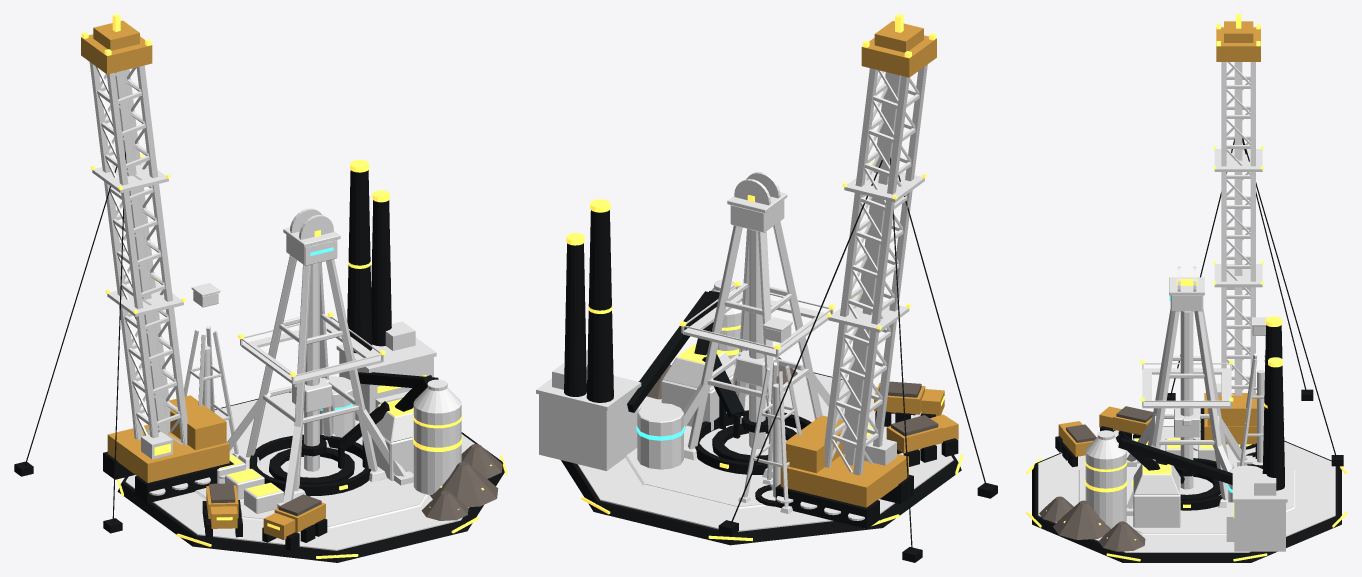
The model's file is sb_mine_t3.glb.
3 renders of one model, left to right at view 1: azimuth 30°, elevation 25°; view 2: azimuth 150°, elevation 25°; view 3: azimuth 270°, elevation 25°, orthographic. The views are drawn at different scales.
Visible parts, largest first — view 1: SM_MINE3_MAST, SM_MINE_DERRICK, SM_MINE3_STACKS, SM_MINE3_PLINTH_TOP, SM_MINE_DECK, SM_MINE3_CHASSIS, SM_MINE3_PLINTH, SM_MINE2_SILO, SM_MINE3_HEAPS, SM_MINE3_DRILLPIPE, SM_MINE3_MAST_HEAD, SM_MINE2_PLATFORM (+26 smaller); view 2: SM_MINE3_MAST, SM_MINE3_STACKS, SM_MINE3_PLINTH_TOP, SM_MINE_DERRICK, SM_MINE3_PLANT, SM_MINE3_CHASSIS, SM_MINE_DECK, SM_MINE3_PLINTH, SM_MINE3_MAST_HEAD, SM_MINE3_DRILLPIPE, SM_MINE3_GUYS, SM_MINE_TANK (+25 smaller); view 3: SM_MINE3_PLINTH_TOP, SM_MINE3_MAST, SM_MINE_DERRICK, SM_MINE3_PLINTH, SM_MINE_DECK, SM_MINE2_SILO, SM_MINE3_STACKS, SM_MINE3_PLANT, SM_MINE3_HEAPS, SM_MINE3_DRILLPIPE, SM_MINE2_PLATFORM, SM_MINE_SHAFT (+21 smaller).
Boxes of the visible parts, left/top/right/bottom form: SM_MINE3_MAST: left=89, top=62, right=187, bottom=444; SM_MINE_DERRICK: left=246, top=255, right=377, bottom=490; SM_MINE3_STACKS: left=347, top=170, right=391, bottom=353; SM_MINE3_PLINTH_TOP: left=125, top=392, right=487, bottom=550; SM_MINE_DECK: left=196, top=413, right=425, bottom=526; SM_MINE3_CHASSIS: left=107, top=395, right=229, bottom=482; SM_MINE3_PLINTH: left=117, top=392, right=504, bottom=562; SM_MINE2_SILO: left=413, top=387, right=461, bottom=495; SM_MINE3_HEAPS: left=421, top=444, right=502, bottom=520; SM_MINE3_DRILLPIPE: left=115, top=70, right=167, bottom=433; SM_MINE3_MAST_HEAD: left=81, top=20, right=152, bottom=74; SM_MINE2_PLATFORM: left=240, top=316, right=383, bottom=384; SM_MINE3_MAST: left=824, top=64, right=927, bottom=475; SM_MINE3_STACKS: left=564, top=210, right=613, bottom=402; SM_MINE3_PLINTH_TOP: left=577, top=368, right=953, bottom=531; SM_MINE_DERRICK: left=688, top=221, right=822, bottom=469; SM_MINE3_PLANT: left=539, top=389, right=638, bottom=470; SM_MINE3_CHASSIS: left=780, top=415, right=908, bottom=507; SM_MINE_DECK: left=627, top=390, right=886, bottom=506; SM_MINE3_PLINTH: left=561, top=372, right=961, bottom=545; SM_MINE3_MAST_HEAD: left=861, top=21, right=936, bottom=77; SM_MINE3_DRILLPIPE: left=844, top=73, right=900, bottom=465; SM_MINE3_GUYS: left=718, top=157, right=997, bottom=562; SM_MINE_TANK: left=637, top=403, right=683, bottom=469; SM_MINE3_PLINTH_TOP: left=1038, top=426, right=1335, bottom=552; SM_MINE3_MAST: left=1221, top=62, right=1255, bottom=395; SM_MINE_DERRICK: left=1148, top=309, right=1228, bottom=500; SM_MINE3_PLINTH: left=1032, top=426, right=1341, bottom=562; SM_MINE_DECK: left=1080, top=445, right=1293, bottom=533; SM_MINE2_SILO: left=1085, top=437, right=1126, bottom=528; SM_MINE3_STACKS: left=1262, top=325, right=1284, bottom=490; SM_MINE3_PLANT: left=1226, top=502, right=1285, bottom=551; SM_MINE3_HEAPS: left=1039, top=496, right=1145, bottom=551; SM_MINE3_DRILLPIPE: left=1234, top=62, right=1242, bottom=395; SM_MINE2_PLATFORM: left=1142, top=363, right=1231, bottom=408; SM_MINE_SHAFT: left=1180, top=311, right=1193, bottom=489.
Bounding box in the file's own units: 44.39 × 53.04 × 37.38.
